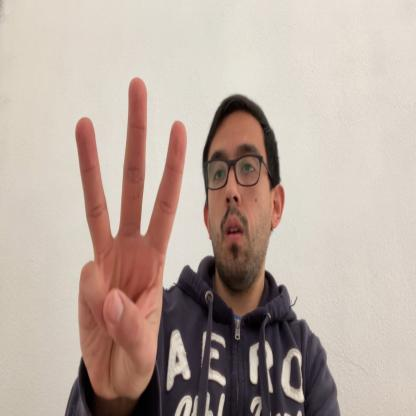W: (75, 76, 185, 406)
